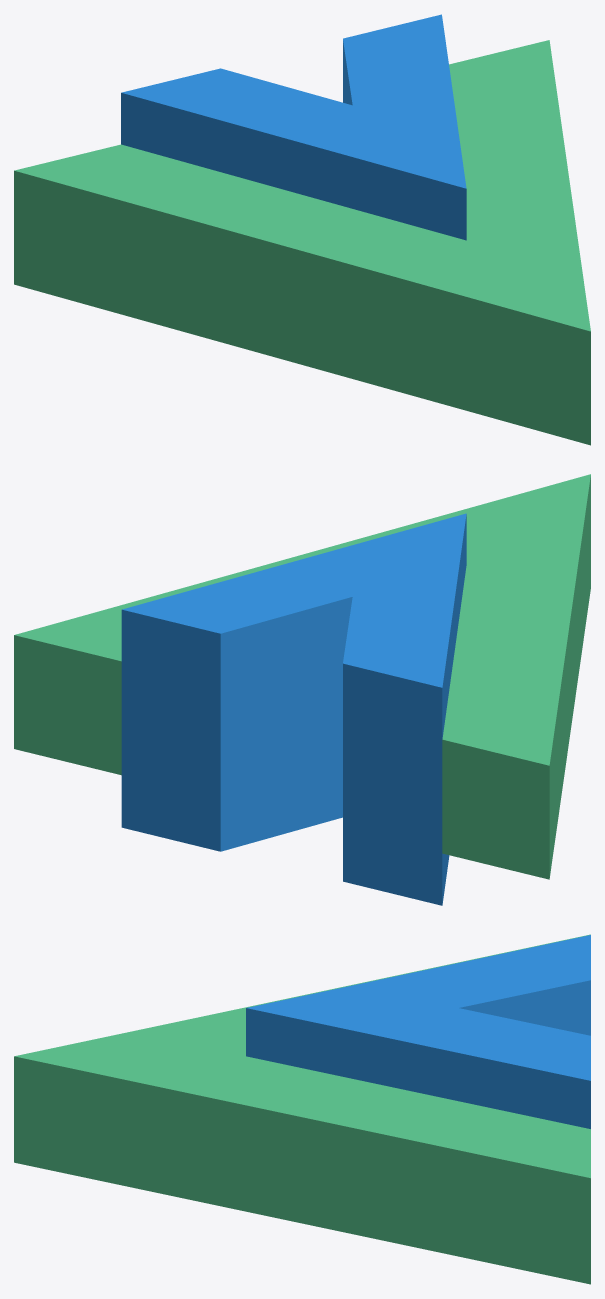
The model's file is vue.glb.
3 renders of one model, top to bottom at view 1: azimuth 30°, elevation 25°; view 2: azimuth 150°, elevation 25°; view 3: azimuth 270°, elevation 25°, orthographic. The views are drawn at different scales.
Parts seen in each view (by area): view 1: Plane; view 2: Plane; view 3: Plane.
Part boxes in pixels (x1,y1,x2,y2): Plane: (14,14,590,445); Plane: (14,474,590,905); Plane: (14,934,590,1284).
Bounding box in the file's own units: 2 × 0.778 × 2.
